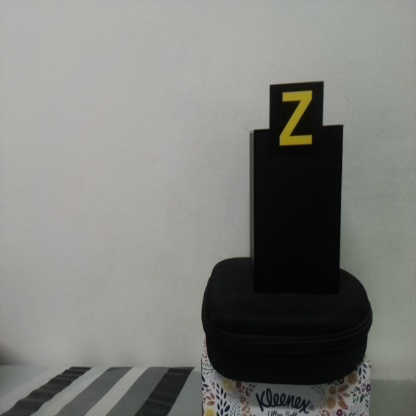id_15: (270, 85, 323, 160)
